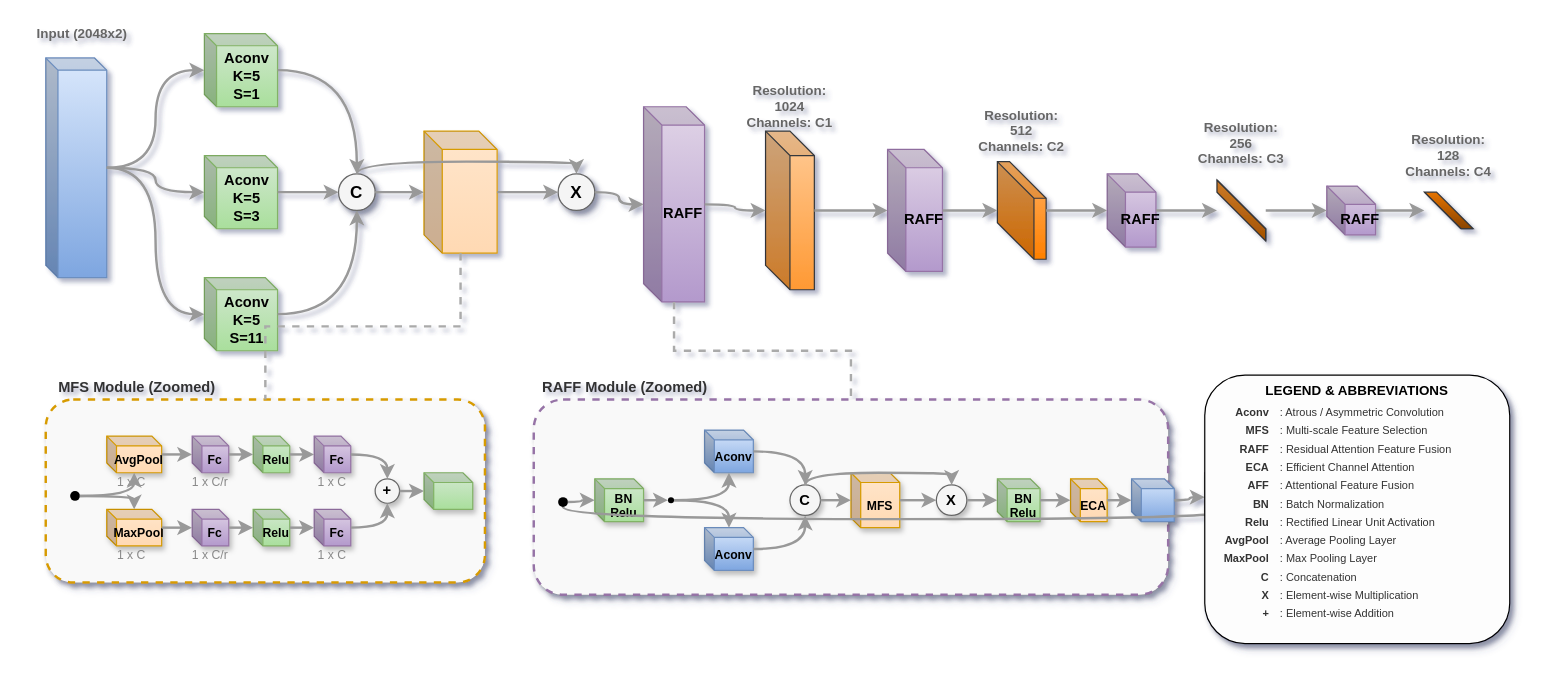
Image size: 1546x681. Some labels were removed from this diagram. Here are the shapes that lost their labels. From the top down, the centre of each, then its label:
point 76,167: IQ Signal 2048x2
point 460,191: MFS Module
point 789,210: F1 1024 x C1
point 1021,209: F2 512 x C2
point 1241,210: F3 256 x C3
point 1448,210: F4 128 x C4
point 449,492: Sigmoid
point 1153,501: C1D
